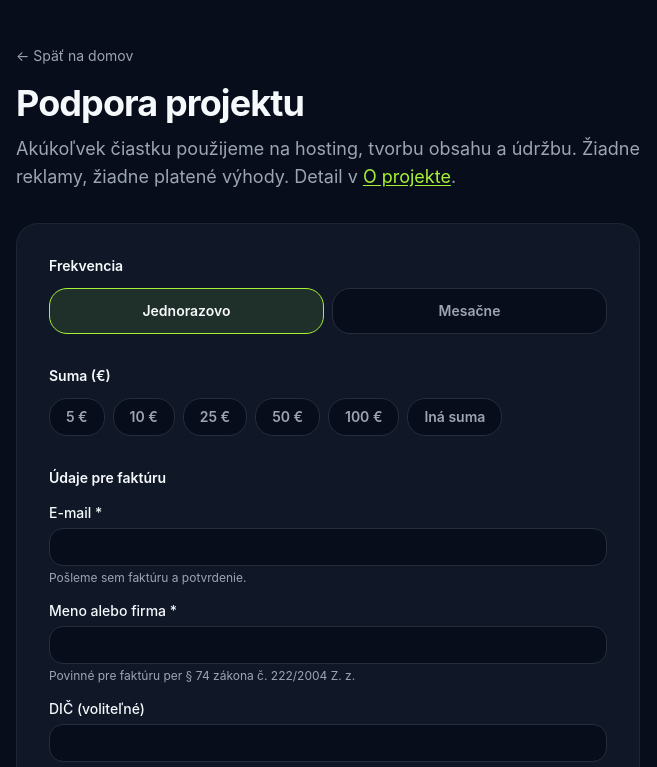
it: DonateForm (/podpora) › disables submit until amount, identity and both consents are set
Click the radio button labelled "10 €" at (144, 417), box [113,398,175,436]
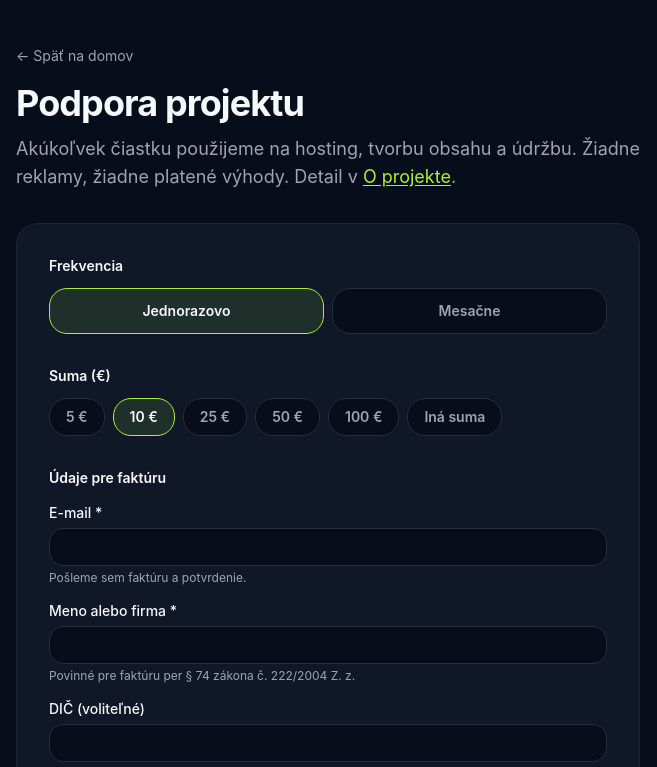
Type "anna@example.test" into the field labelled "E-mail *" at (328, 547), box [49,528,607,566]
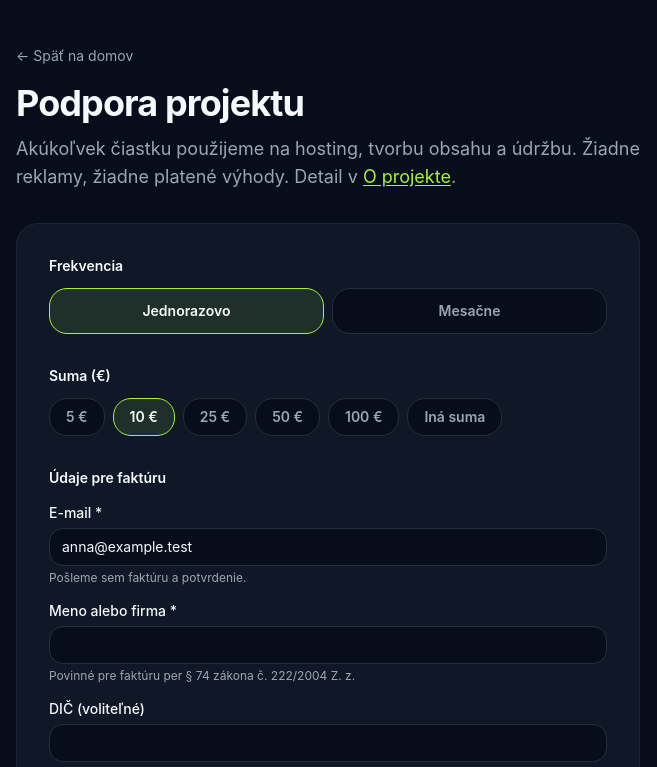
Type "Anna Testovacia" into the field labelled "Meno alebo firma *" at (328, 645), box [49,626,607,664]
(page scrolled)
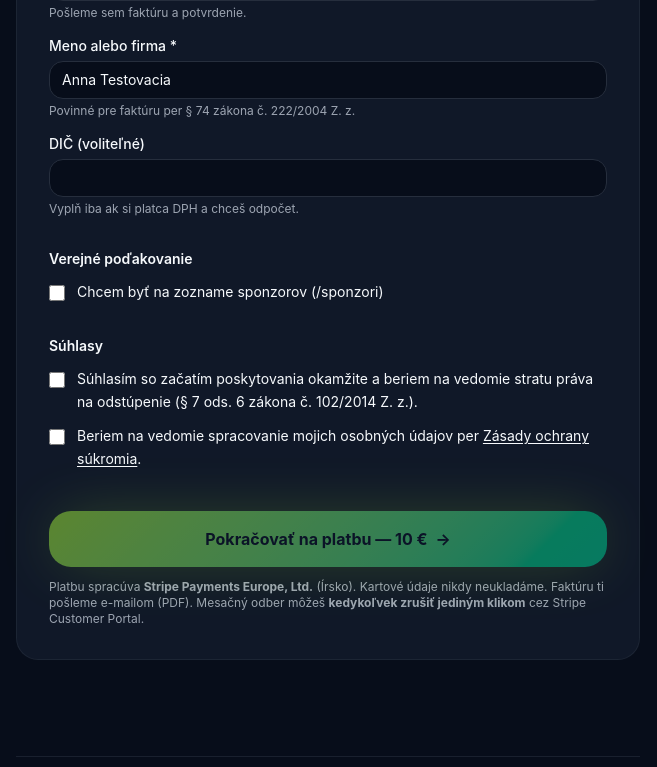
Click the checkbox labelled "začatím poskytovania okamžite" at (57, 380), box [49,372,65,388]
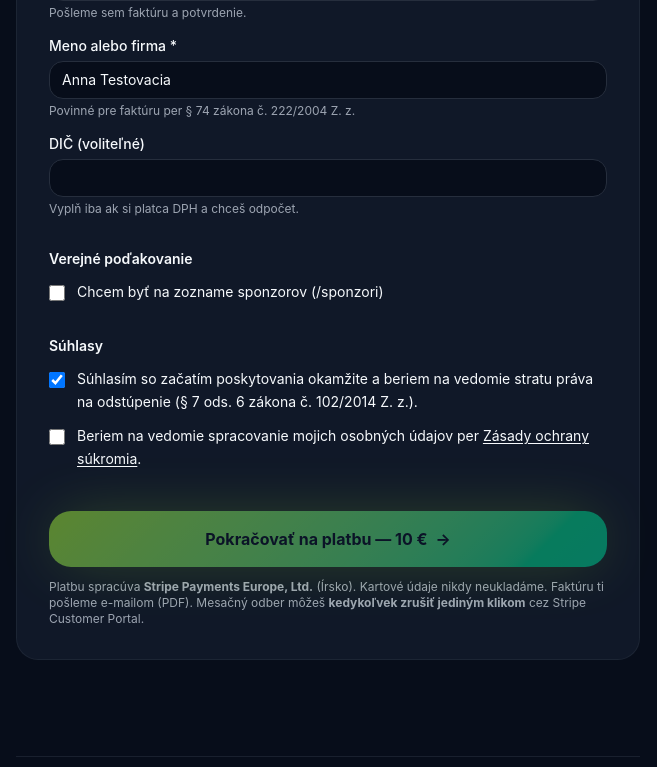
Click the checkbox labelled "spracovanie mojich osobných údajov" at (57, 437), box [49,429,65,445]
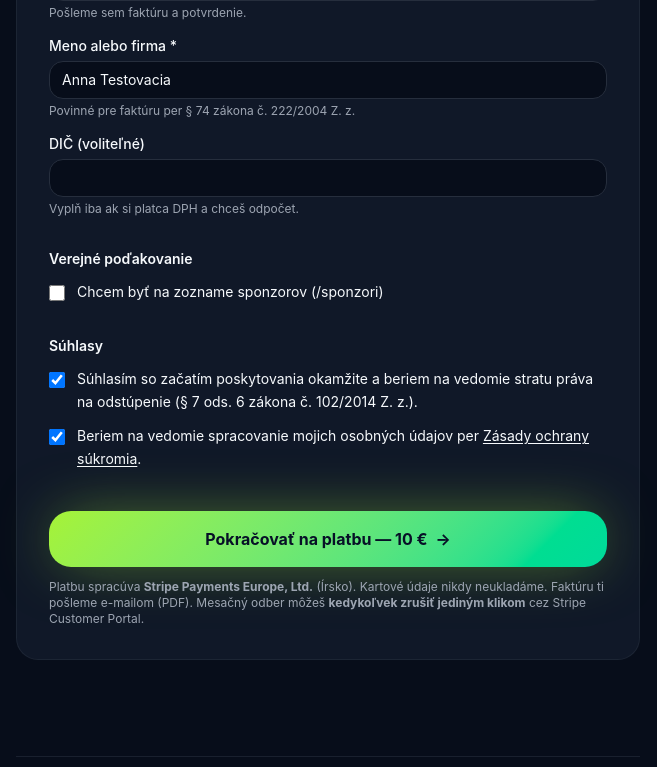
Expected: the button "Pokračovať na platbu — 10 € →" is enabled, [49,511,607,567]
